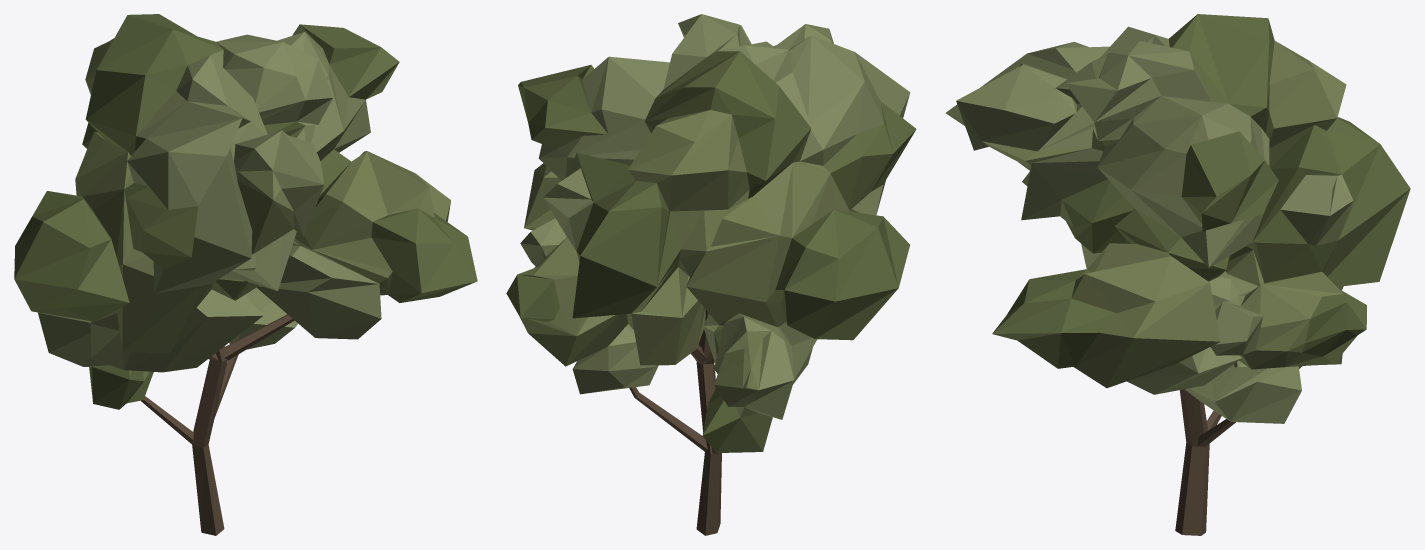
3 renders of one model, left to right at view 1: azimuth 30°, elevation 25°; view 2: azimuth 150°, elevation 25°; view 3: azimuth 270°, elevation 25°, orthographic. The views are drawn at different scales.
Parts seen in each view (by area): view 1: compact-reduced-35; view 2: compact-reduced-35; view 3: compact-reduced-35.
Boxes of the visible parts, left/top/right/bottom form: compact-reduced-35: left=14, top=14, right=477, bottom=535; compact-reduced-35: left=506, top=14, right=916, bottom=535; compact-reduced-35: left=945, top=14, right=1410, bottom=535.
Bounding box in the file's own units: 17.44 × 20.77 × 17.41.
